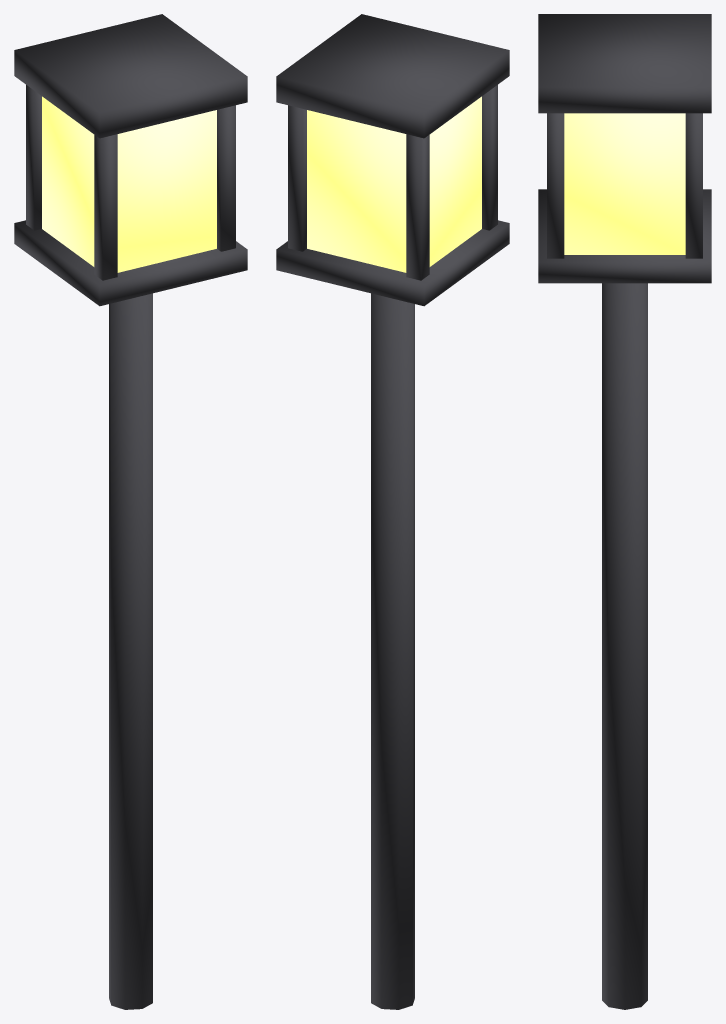
Rendered from lantern.glb.
The picture shows the model from 3 angles, left to right: view 1: azimuth 30°, elevation 25°; view 2: azimuth 150°, elevation 25°; view 3: azimuth 270°, elevation 25°; orthographic projection.
Visible parts, largest first — view 1: Lantern; view 2: Lantern; view 3: Lantern.
Part boxes in pixels (x1,y1,x2,y2): Lantern: (14,14,247,1009); Lantern: (276,14,509,1009); Lantern: (538,14,711,1009).
Size of the model in its own units: 0.3 by 1.81 by 0.3.
